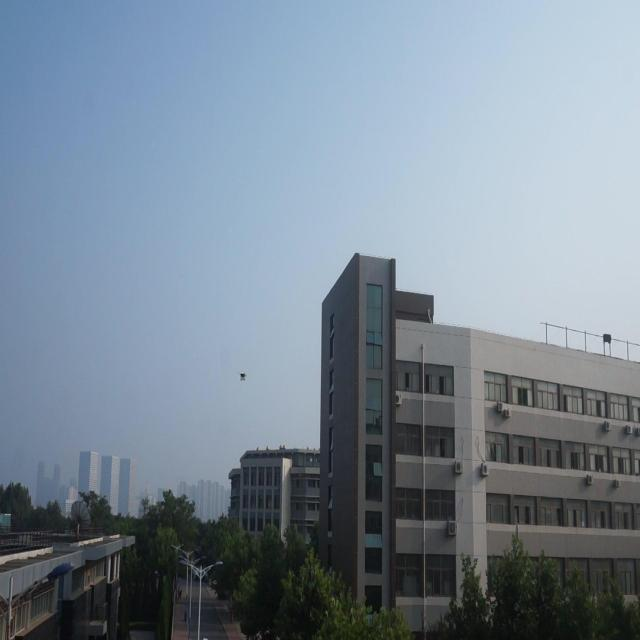drone: (236, 366, 249, 387)
